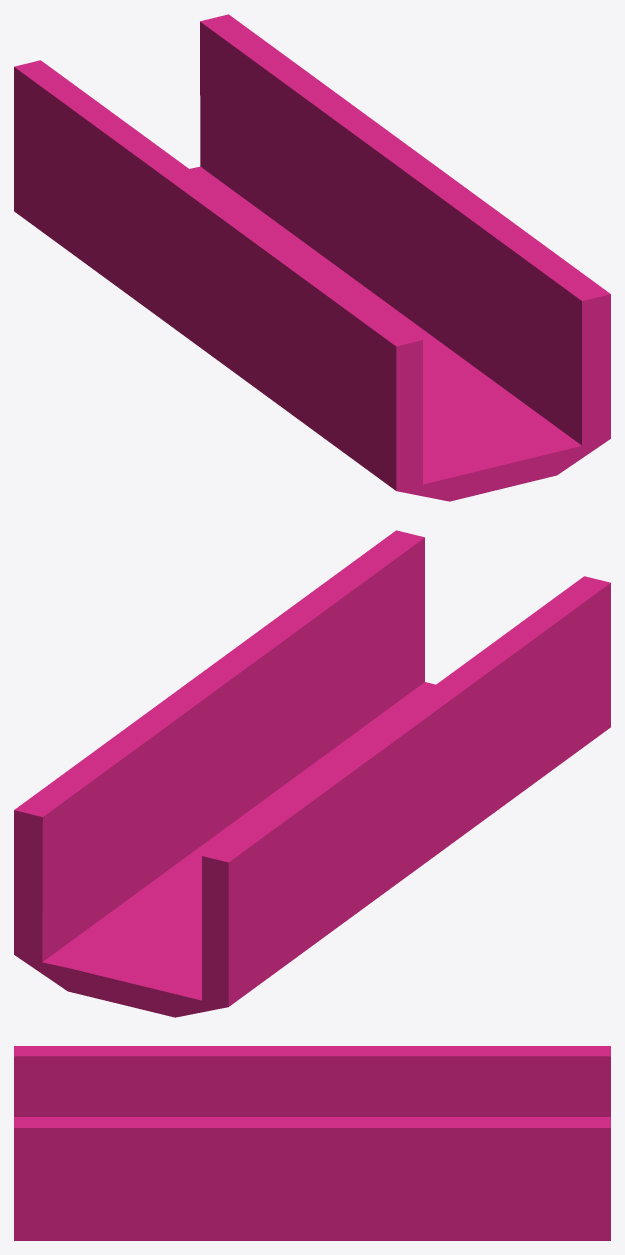
File: DeplReg.fbx
3 renders of one model, top to bottom at view 1: azimuth 30°, elevation 25°; view 2: azimuth 150°, elevation 25°; view 3: azimuth 270°, elevation 25°, orthographic. The views are drawn at different scales.
Visible parts, largest first — view 1: DeplReg; view 2: DeplReg; view 3: DeplReg.
Part boxes in pixels (<box>): DeplReg: <box>14,14,610,501</box>; DeplReg: <box>14,530,610,1017</box>; DeplReg: <box>14,1046,610,1240</box>.
Bounding box in the file's own units: 67.27 × 50.34 × 207.
